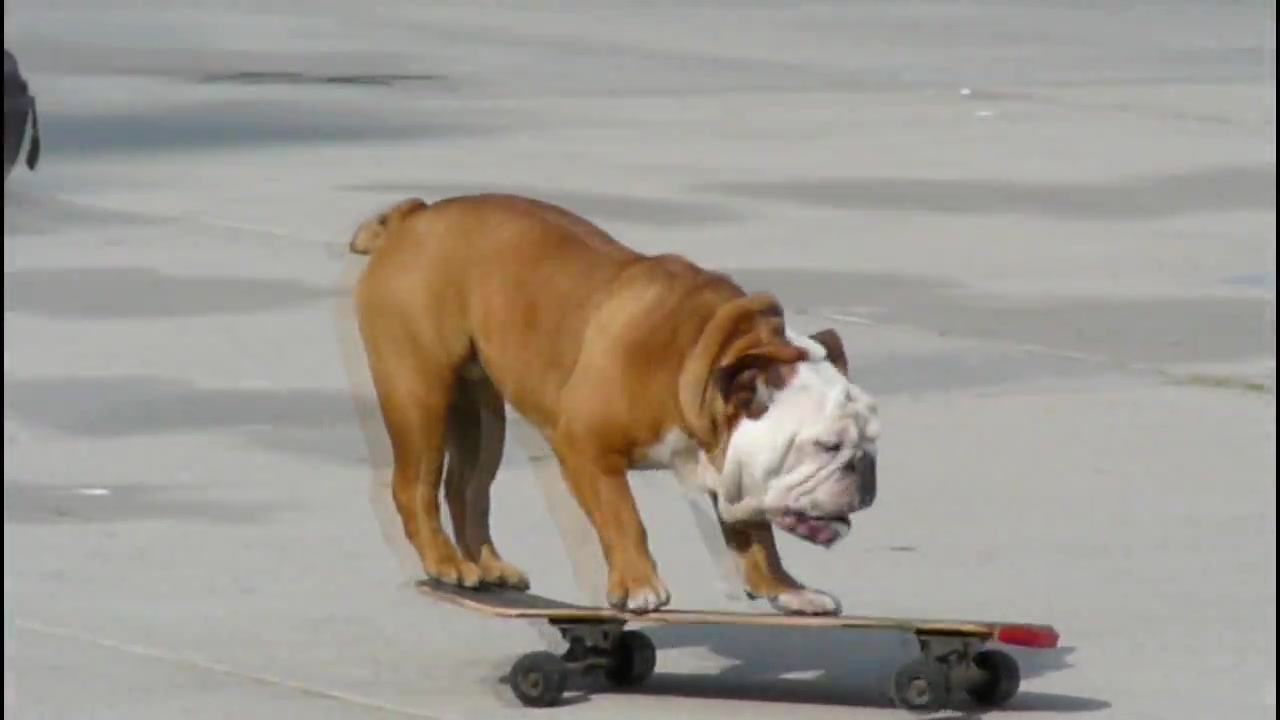dog: (349, 191, 884, 624)
